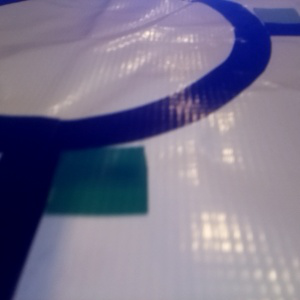bottom_right: (1, 120, 147, 213)
top_right: (235, 1, 300, 36)
